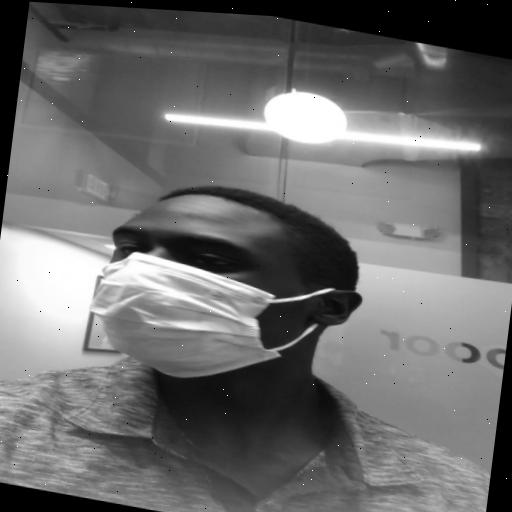mask: (90, 181, 358, 403)
